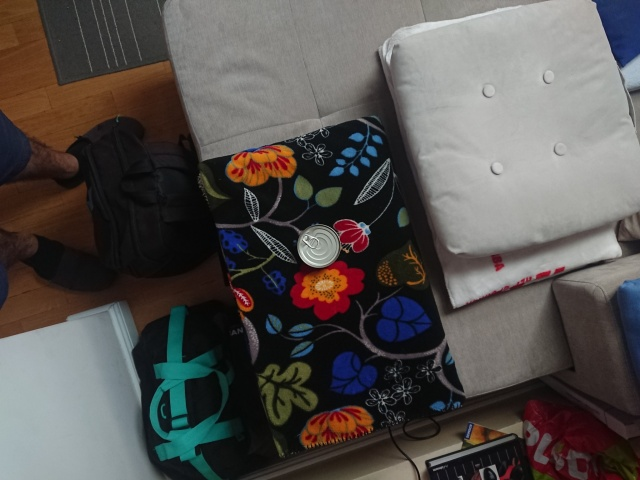Giana Tuna Salad Mexico 185g: (295, 222, 343, 271)
